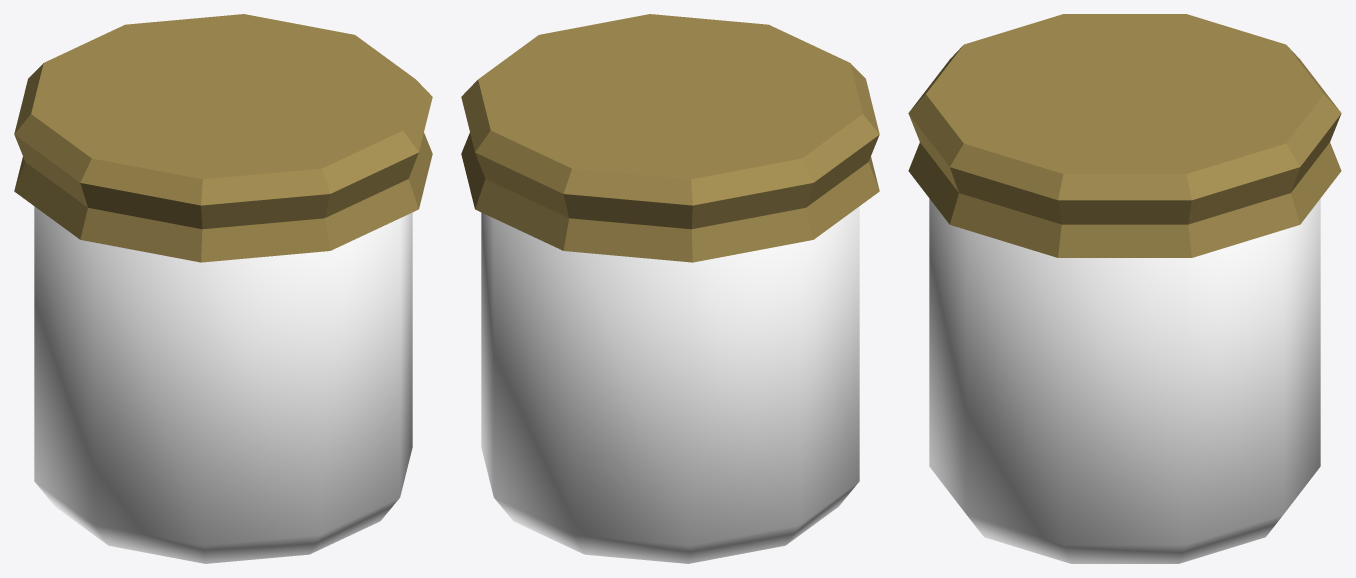
Rendered from Jar_Full.glb.
3 views of the same model, side by side, from view 1: azimuth 30°, elevation 25°; view 2: azimuth 150°, elevation 25°; view 3: azimuth 270°, elevation 25° (orthographic).
Parts seen in each view (by area): view 1: Jar_Full; view 2: Jar_Full; view 3: Jar_Full.
Part boxes in pixels (left/top/right/bottom): Jar_Full: left=14, top=14, right=432, bottom=563; Jar_Full: left=461, top=14, right=879, bottom=563; Jar_Full: left=908, top=14, right=1341, bottom=563.
Size of the model in its own units: 0.1859 by 0.1991 by 0.1954.
2 materials, 1 textured.
